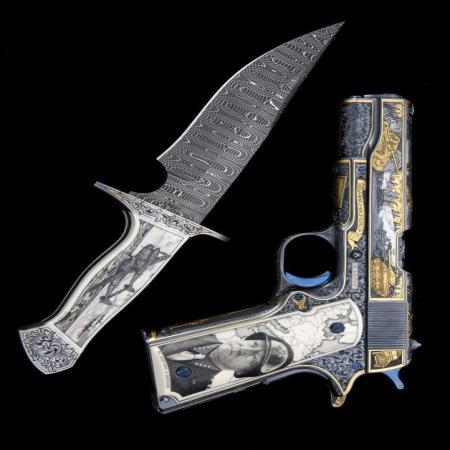Pistol: (146, 91, 422, 420)
